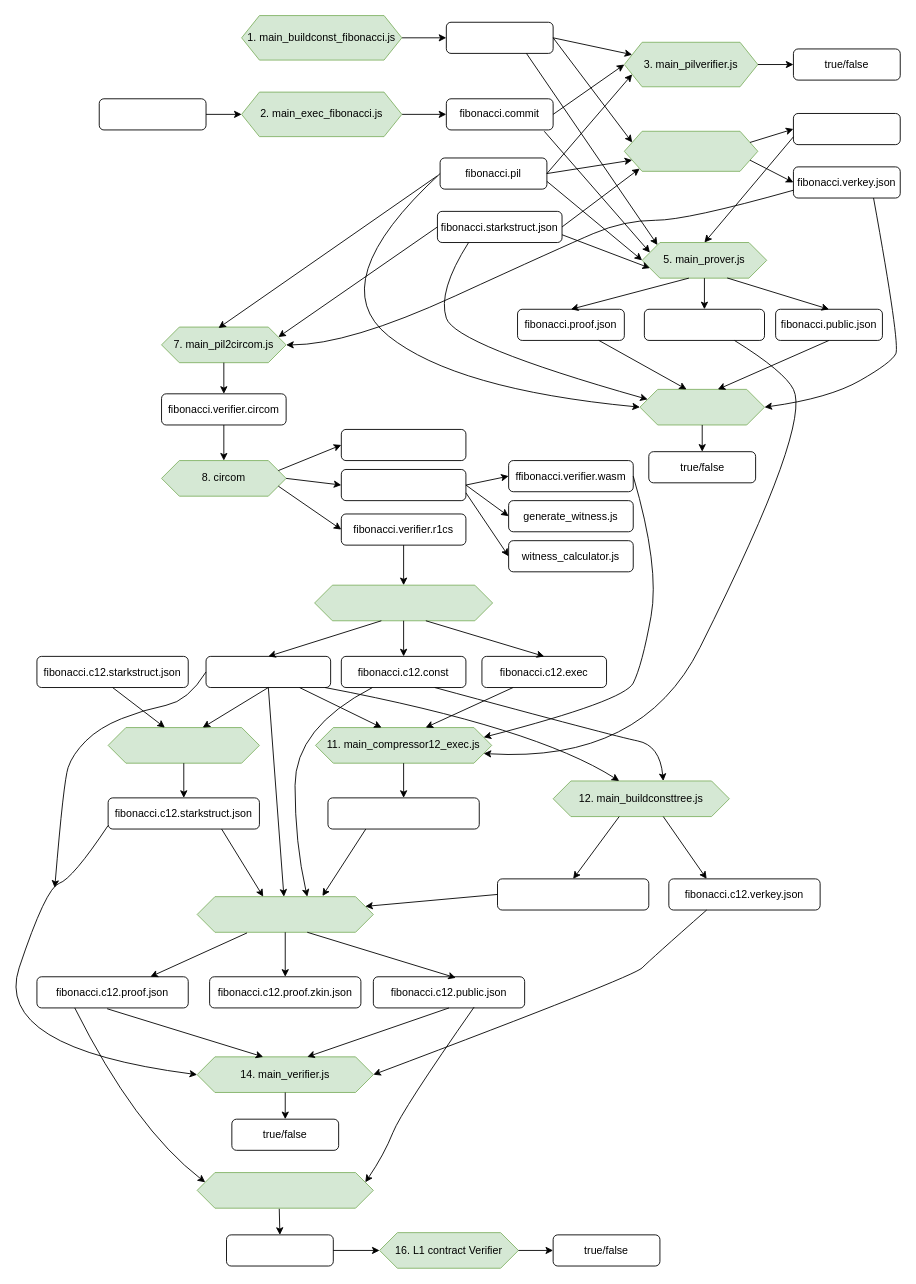
Image size: 916x1284. Some labels were removed from this diagram. Here are the shapes that lost their labels. From the top down, the box of each, then its label:
(445, 21, 553, 53): fibonacci.const
(98, 98, 206, 130): fibonacci.input.json
(793, 113, 900, 145): fibonacci.consttree
(623, 130, 758, 171): 4. main_buildconstree.js
(643, 308, 765, 340): fibonacci.proof.zkin.json
(639, 388, 765, 425): 6. main_verifier.js
(340, 429, 466, 461): fibonacci.verifier.sym
(340, 469, 466, 501): fibonacci.verifier_js
(314, 584, 493, 621): 9. main_compressor12_setup.js
(205, 655, 331, 688): fibonacci.c12.pil
(107, 727, 259, 763): 10. main_genstarkinfo.js
(327, 797, 479, 829): fibonacci.c12.commit
(196, 896, 373, 932): 13. main_prover.js
(497, 878, 649, 910): fibonacci.c12.consttree
(196, 1172, 373, 1208): 15. groth16Prover
(226, 1234, 333, 1266): groth16 proof
